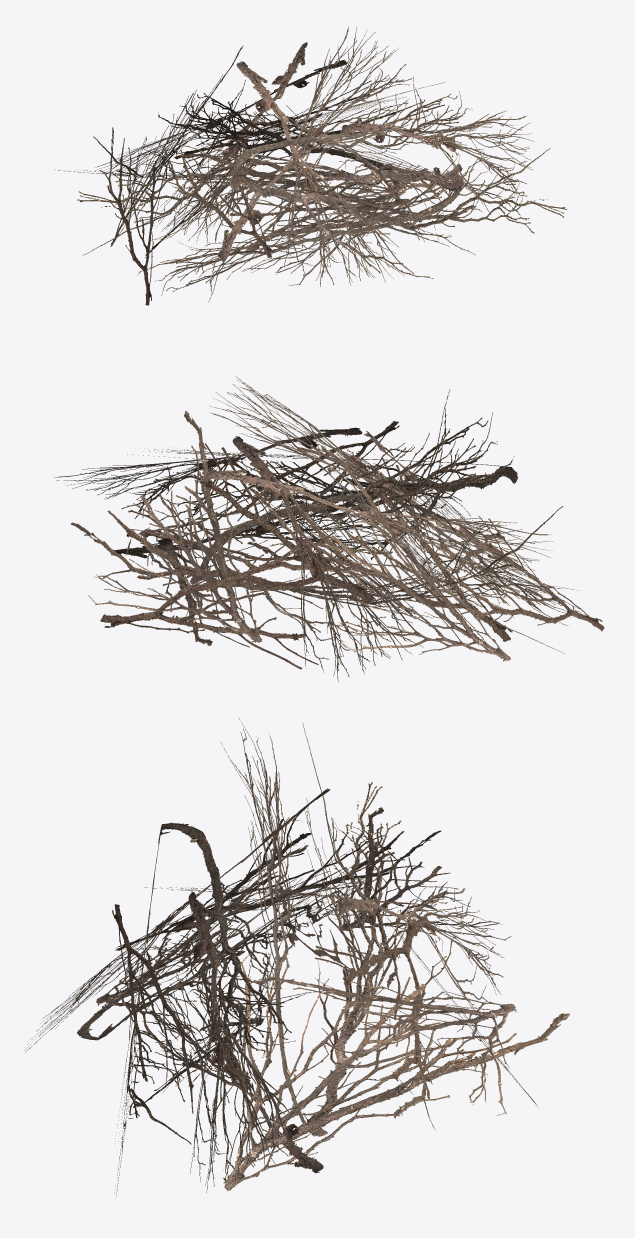
File: PileOfTwigs2.fbx
3 views of the same model, one above another, from view 1: azimuth 30°, elevation 25°; view 2: azimuth 150°, elevation 25°; view 3: azimuth 270°, elevation 25° (orthographic). The views are drawn at different scales.
Parts seen in each view (by area): view 1: PileOfTwigs2; view 2: PileOfTwigs2; view 3: PileOfTwigs2.
Part boxes in pixels (left/top/right/bottom): PileOfTwigs2: left=55, top=26, right=567, bottom=305; PileOfTwigs2: left=54, top=375, right=604, bottom=682; PileOfTwigs2: left=24, top=717, right=569, bottom=1196.
Size of the model in its own units: 321 by 152 by 221.
